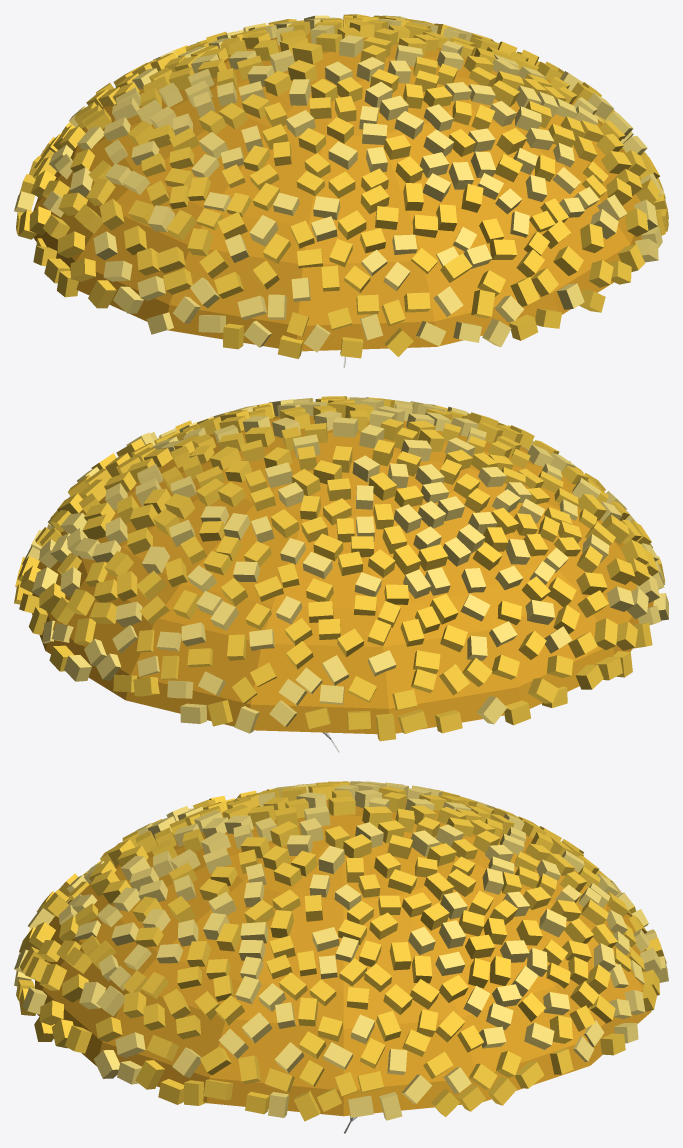
The model's file is w1_cellarprops.fbx.
3 views of the same model, one above another, from view 1: azimuth 30°, elevation 25°; view 2: azimuth 150°, elevation 25°; view 3: azimuth 270°, elevation 25° (orthographic).
Visible parts, largest first — view 1: CornHeapA.Kernels, CornHeapA.Heap, CornHeapA.KernelsPale; view 2: CornHeapA.Kernels, CornHeapA.Heap, CornHeapA.KernelsPale; view 3: CornHeapA.Kernels, CornHeapA.Heap, CornHeapA.KernelsPale.
Boxes of the visible parts, left/top/right/bottom form: CornHeapA.Kernels: left=16, top=14, right=668, bottom=358; CornHeapA.Heap: left=33, top=32, right=641, bottom=351; CornHeapA.KernelsPale: left=14, top=15, right=664, bottom=352; CornHeapA.Kernels: left=14, top=396, right=665, bottom=741; CornHeapA.Heap: left=32, top=416, right=653, bottom=734; CornHeapA.KernelsPale: left=22, top=397, right=668, bottom=733; CornHeapA.Kernels: left=16, top=781, right=666, bottom=1121; CornHeapA.Heap: left=35, top=799, right=651, bottom=1116; CornHeapA.KernelsPale: left=14, top=781, right=668, bottom=1120.
Bounding box in the file's own units: 13.46 × 7.18 × 13.52.
